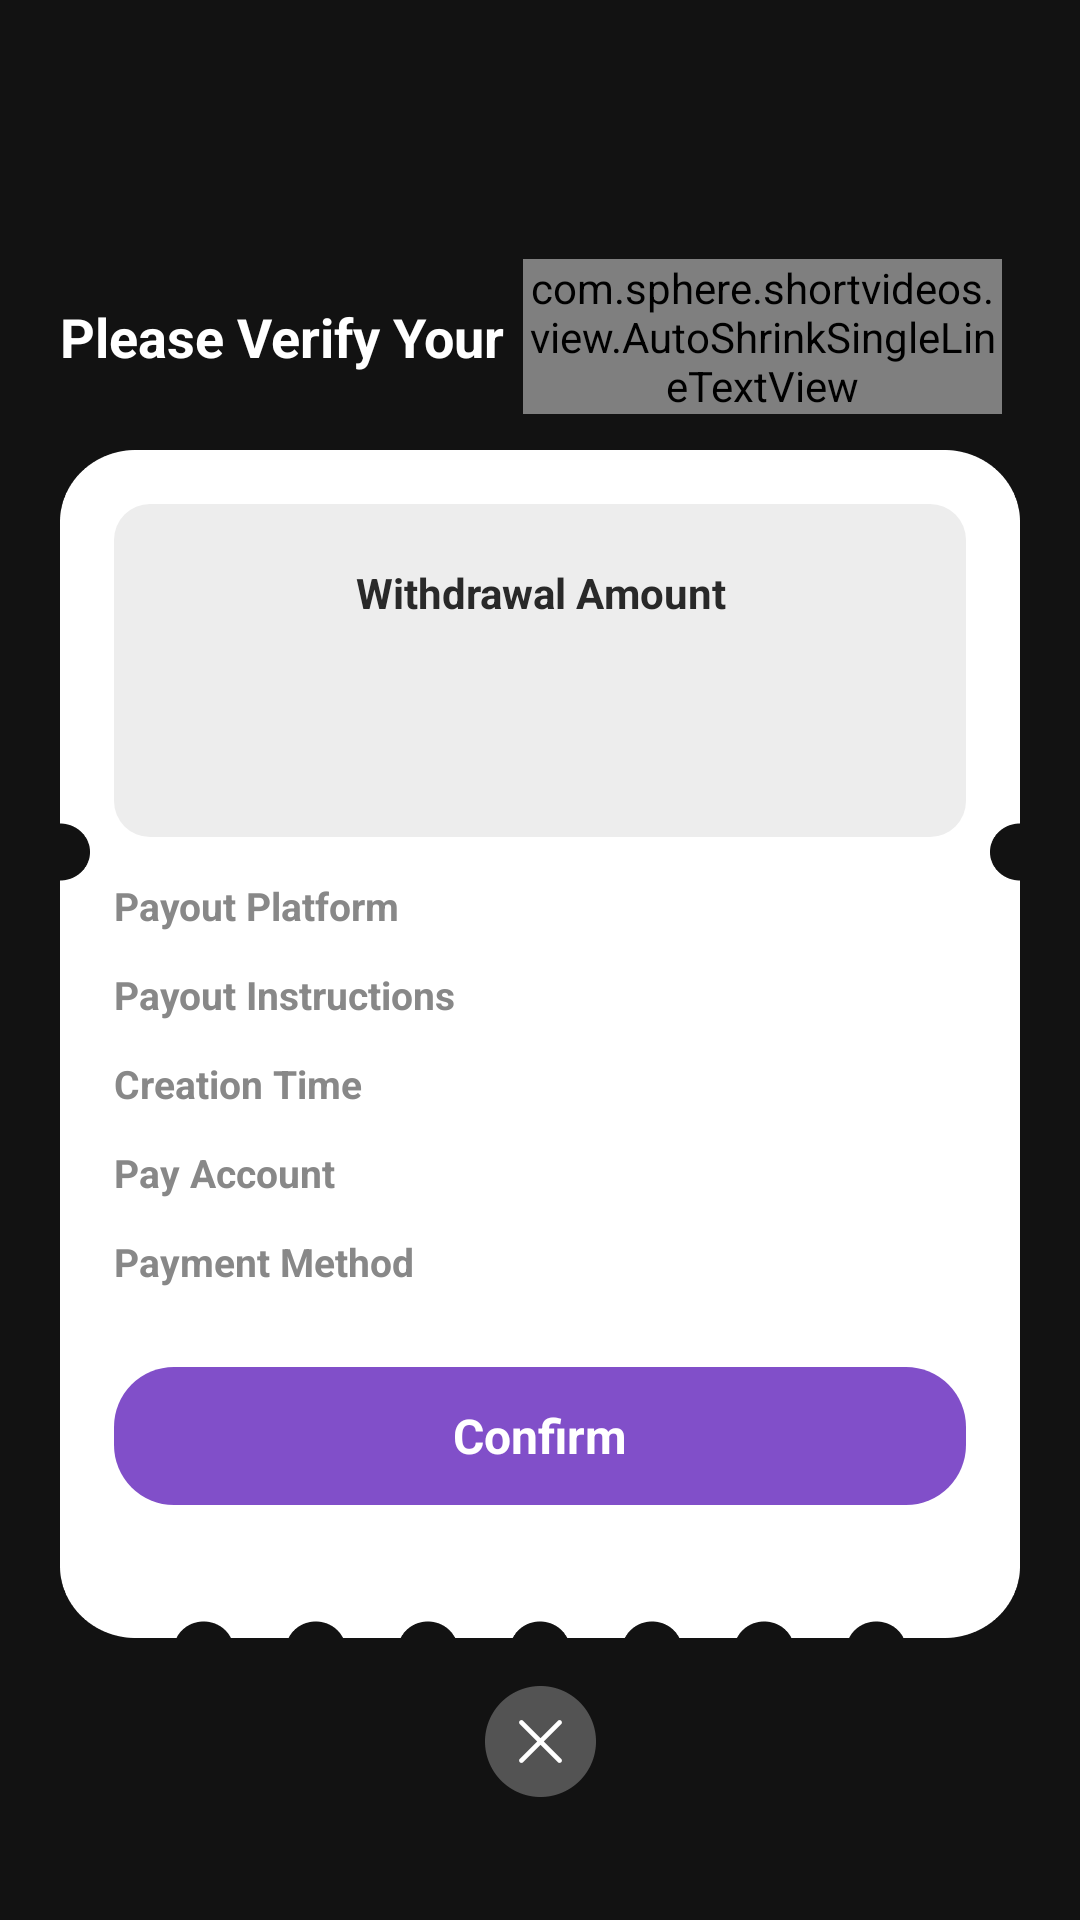

Named icons in this screenshot (1080w x 1920h) and their bounding boxes, region(x1, y1, x2, y2):
close: region(485, 1686, 596, 1797)
